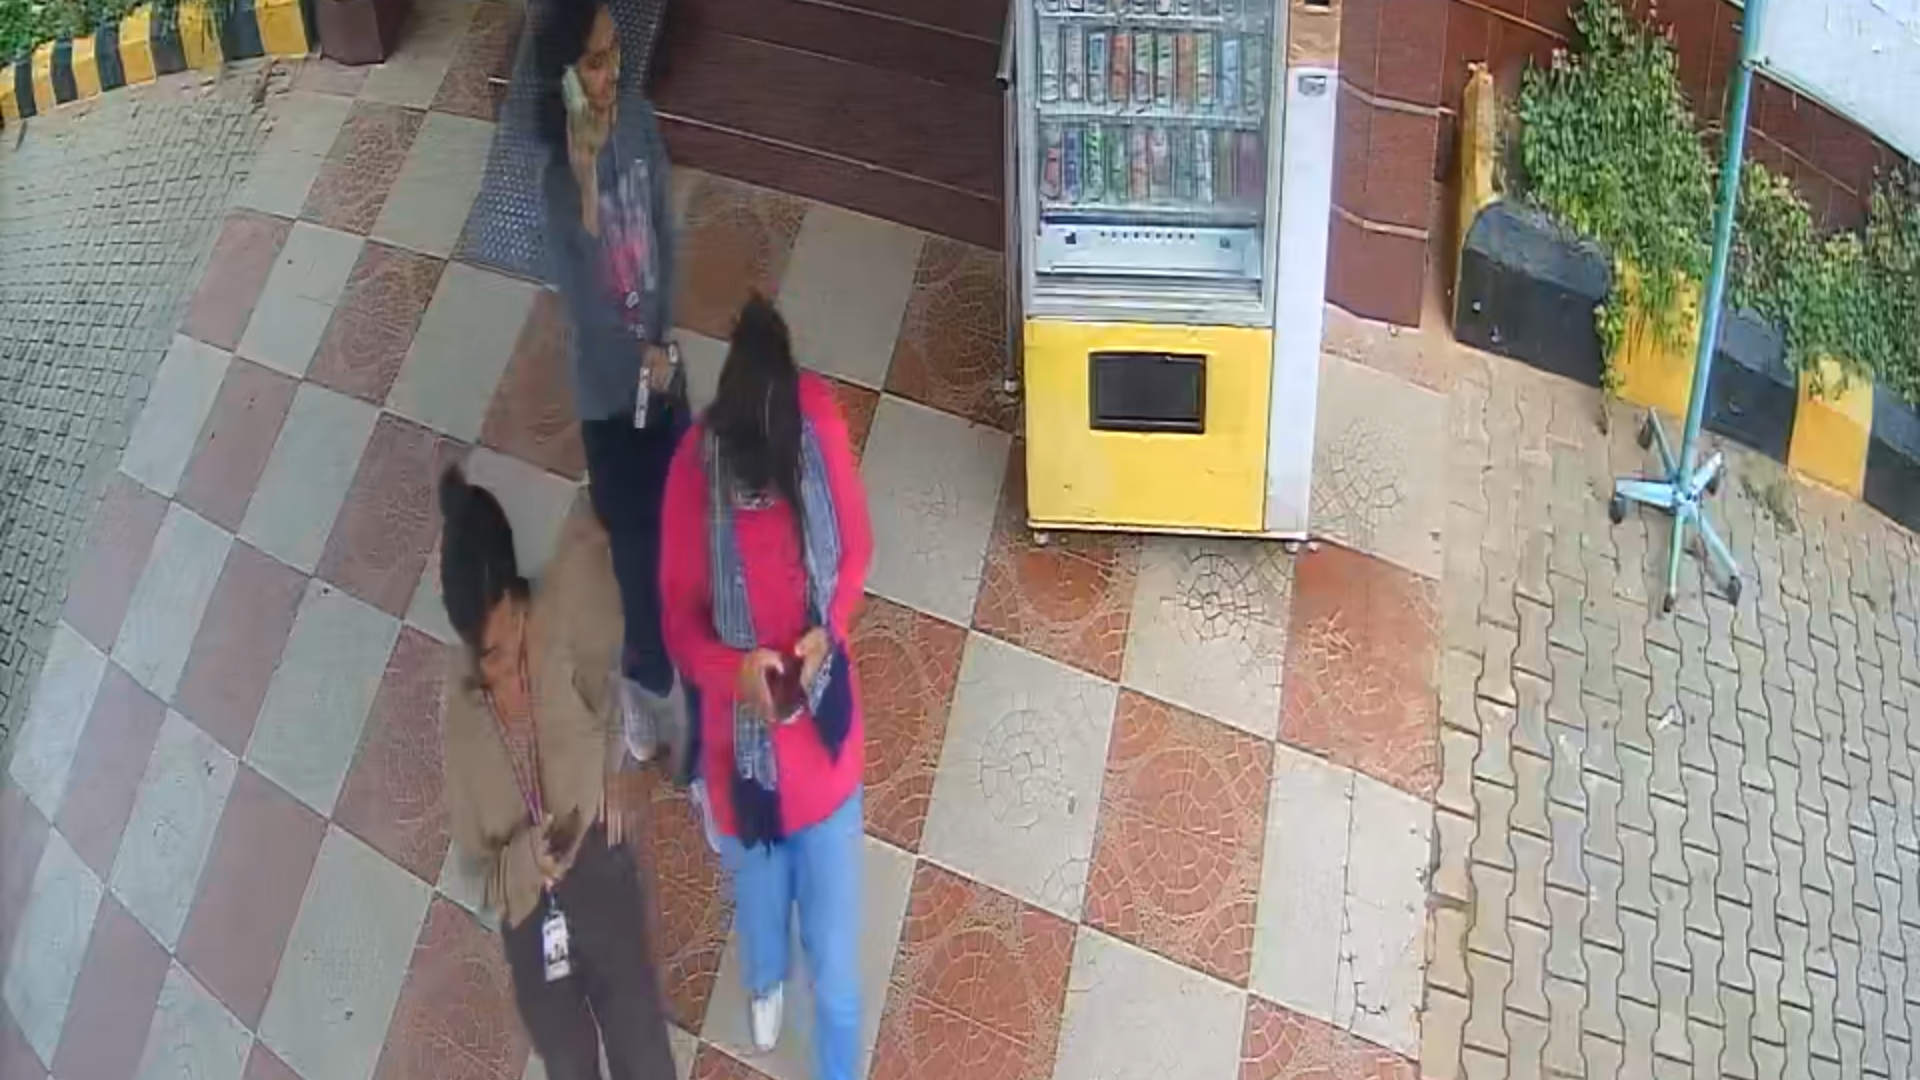intruder: (655, 286, 905, 1060)
not intruder: (415, 450, 695, 1080), (530, 1, 691, 764)
